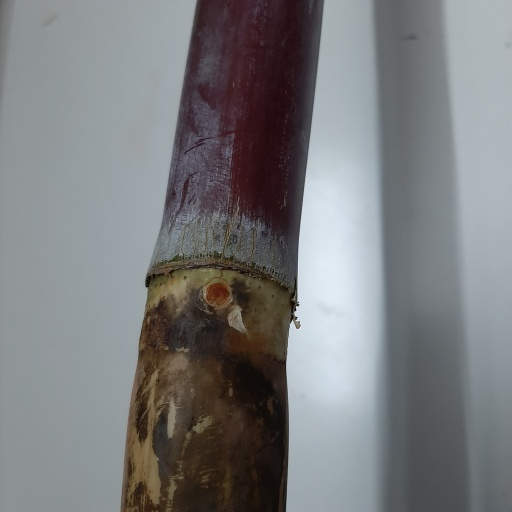Damage_Bud: (201, 279, 233, 309)
